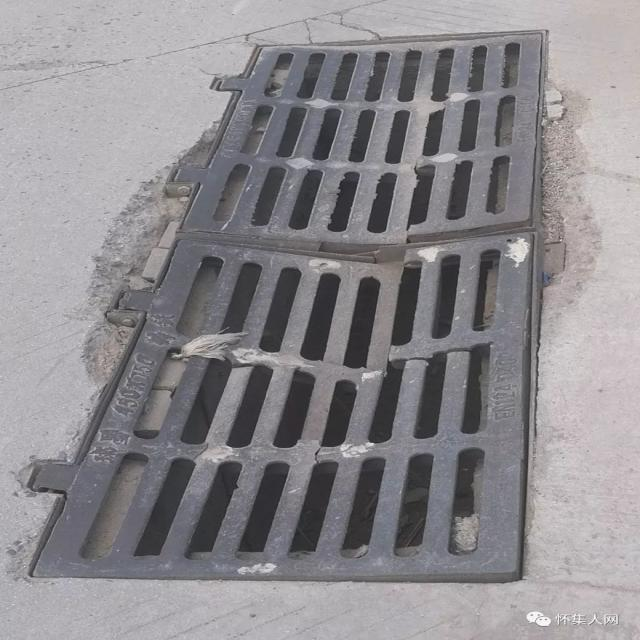manhole: (26, 29, 550, 587)
